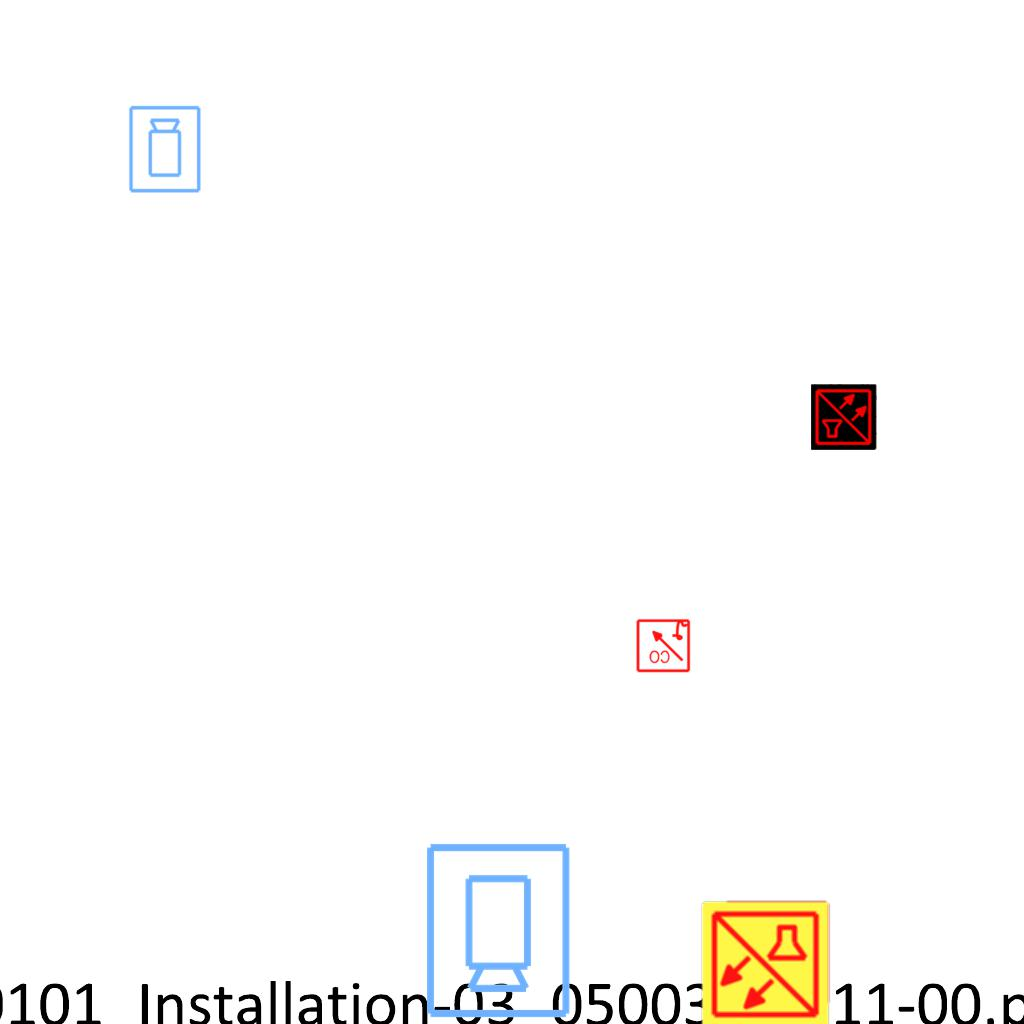KFO_Kamera_mit_Festobjektiv: (420, 839, 574, 1021), (127, 104, 204, 195)
OKW_Multisensormelder_(Kombination_optischer_Rauch-Kahlenmonoxid_Waerme-Melder): (699, 898, 831, 1024), (811, 384, 877, 450)
ROA_Rauchmelder_optisch_mit_Signalgeber_(Sockelsirene): (635, 617, 691, 673)
